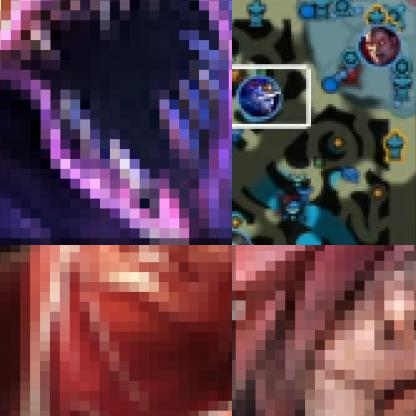Aurelion Sol: (235, 74, 284, 122)
Darius: (358, 23, 402, 66)
Sett: (232, 245, 415, 415)
Skarner: (0, 0, 231, 244)
Vladimir: (0, 245, 231, 415)
